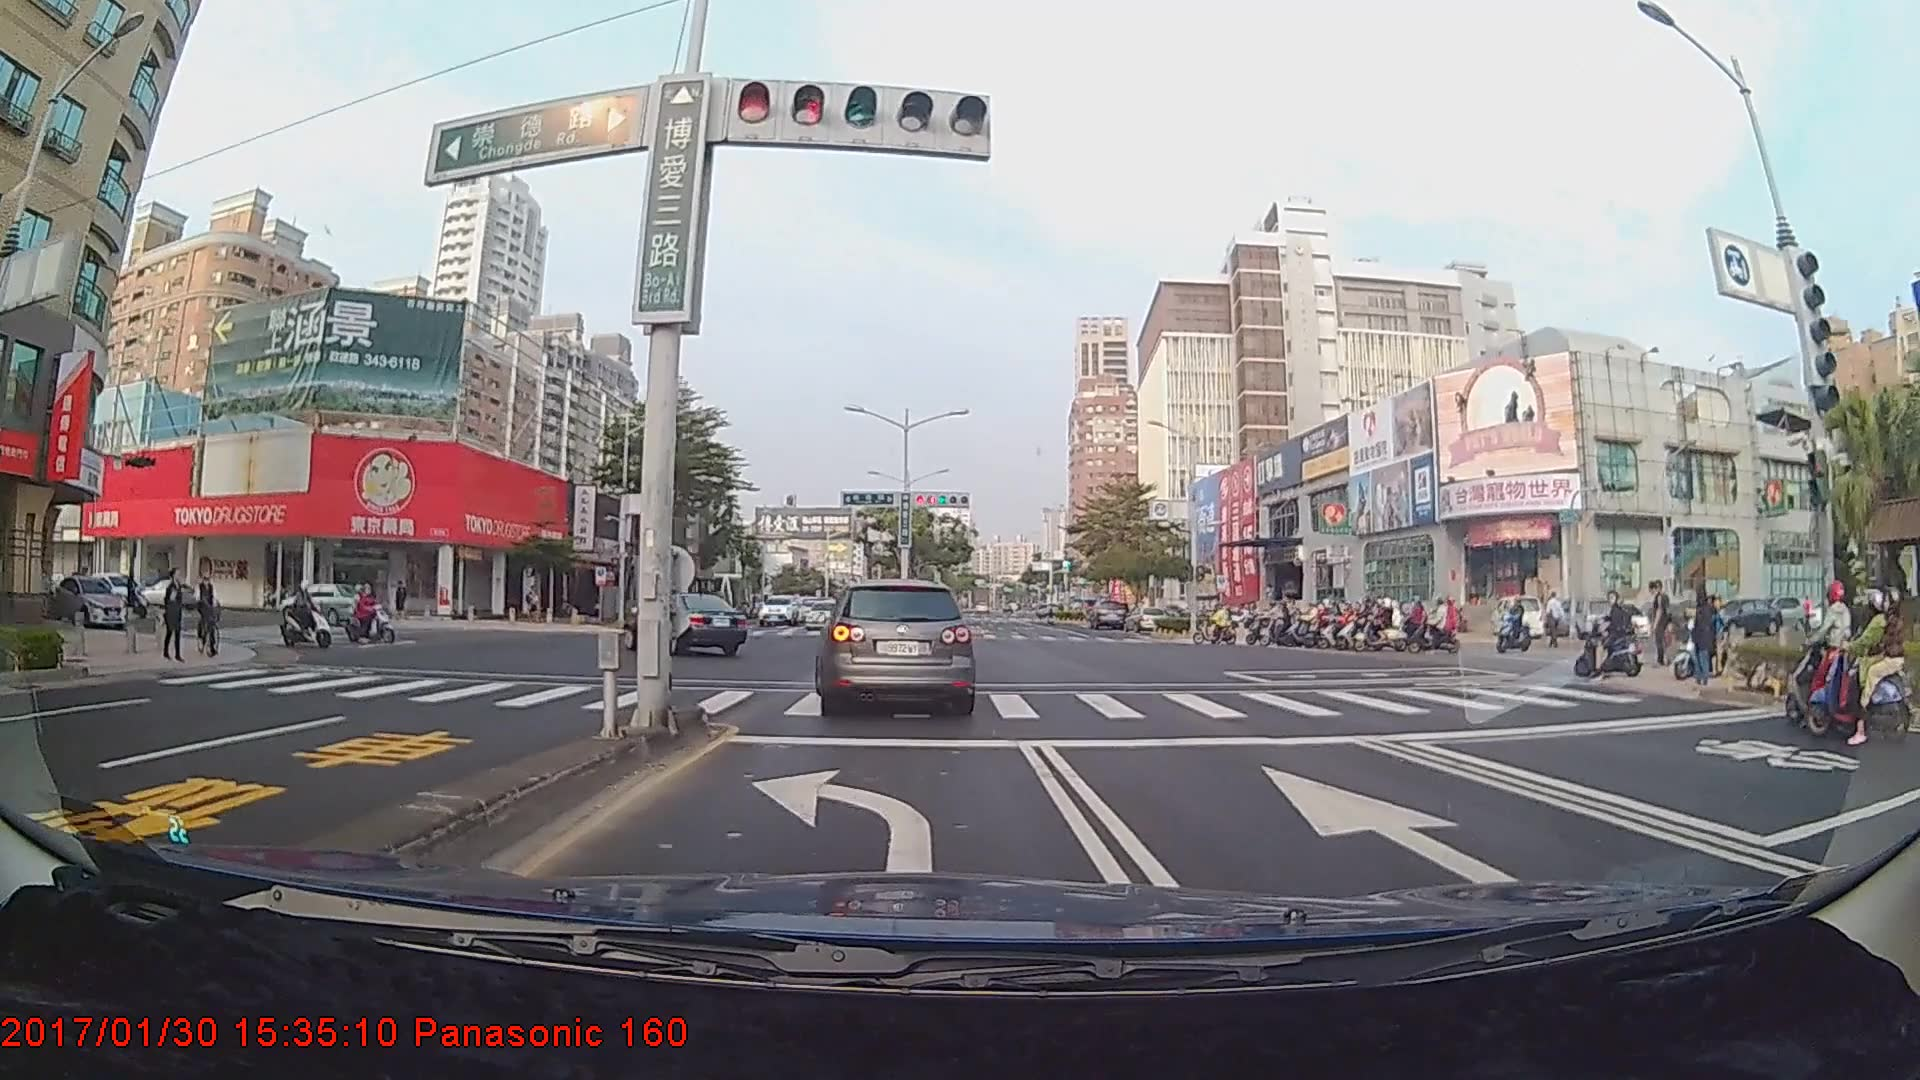pedestrian: (1685, 576, 1722, 695), (1652, 578, 1675, 669), (164, 571, 184, 664)
rider: (1801, 594, 1913, 753), (1780, 579, 1871, 729), (1577, 594, 1650, 677), (1668, 584, 1728, 686), (271, 573, 340, 651), (337, 578, 399, 641), (189, 566, 229, 656), (1411, 593, 1461, 656), (1488, 596, 1539, 652), (1365, 596, 1410, 650), (1239, 595, 1289, 642), (1191, 605, 1243, 646), (1332, 596, 1375, 643), (1315, 601, 1357, 646), (1324, 600, 1362, 645)
vehicle: (811, 574, 977, 718), (621, 589, 746, 654), (273, 580, 369, 622), (1087, 599, 1130, 631)
